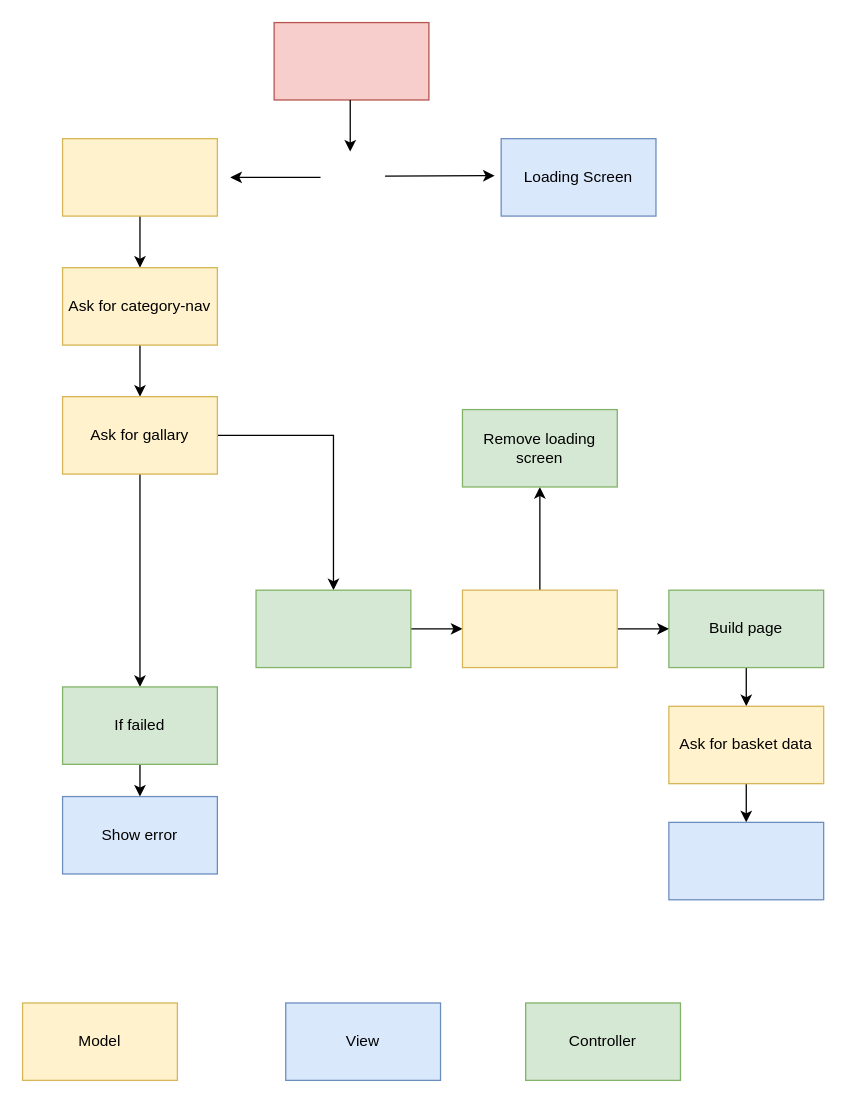
Some shapes in this 846 by 1103 pixel diagram are drawn without their labels. Here are the shapes that lost their labels. From the top down, the centre of each, then its label:
At [351,60]: "ENTRYPOINT".
At [139,176]: "Ask for data".
At [333,628]: "All data recieved without errors".
At [539,628]: "Store data".
At [746,860]: "Show Quantity".
